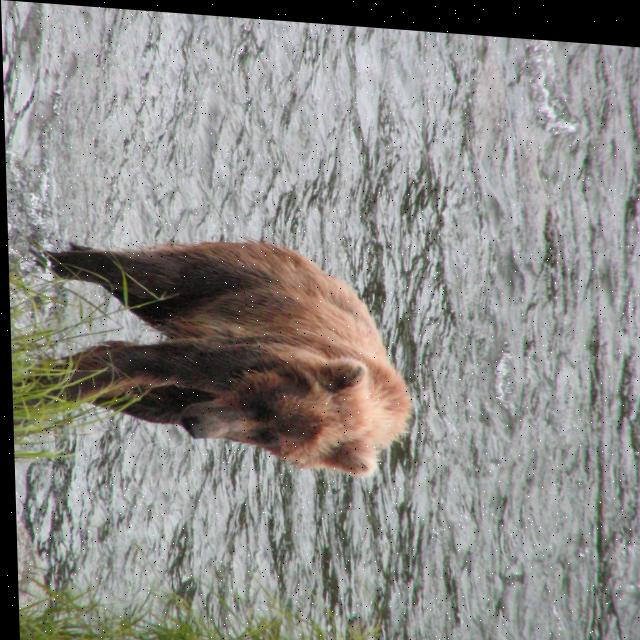bear face: (55, 226, 408, 474)
